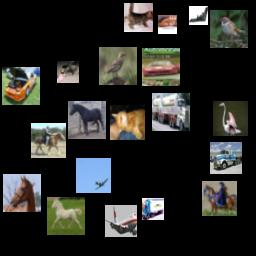airplane: (76, 158, 111, 193), (105, 205, 137, 237), (189, 6, 208, 25)
automobile: (2, 67, 40, 105), (142, 48, 180, 86)
bird: (210, 10, 248, 48), (99, 47, 137, 85), (213, 101, 248, 136)
cat: (110, 105, 145, 140), (124, 3, 153, 32), (57, 61, 79, 83), (158, 15, 177, 34)
truck: (152, 93, 190, 131), (210, 142, 242, 174), (142, 198, 164, 220)
